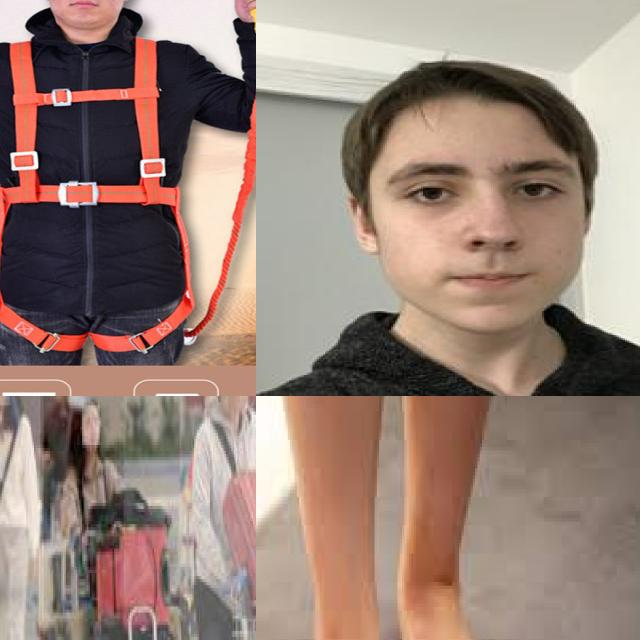Harness: (0, 32, 182, 363)
No_Ear-Protection: (338, 183, 402, 258)
No_Glasses: (372, 150, 583, 222)
Sandals: (395, 550, 506, 640), (287, 588, 381, 640)
face_nomask: (370, 144, 582, 333), (82, 405, 100, 445), (230, 396, 248, 408)
head_nohelmet: (353, 63, 587, 137)
person: (256, 37, 640, 396), (179, 396, 256, 640), (43, 396, 125, 615), (0, 396, 41, 640)
